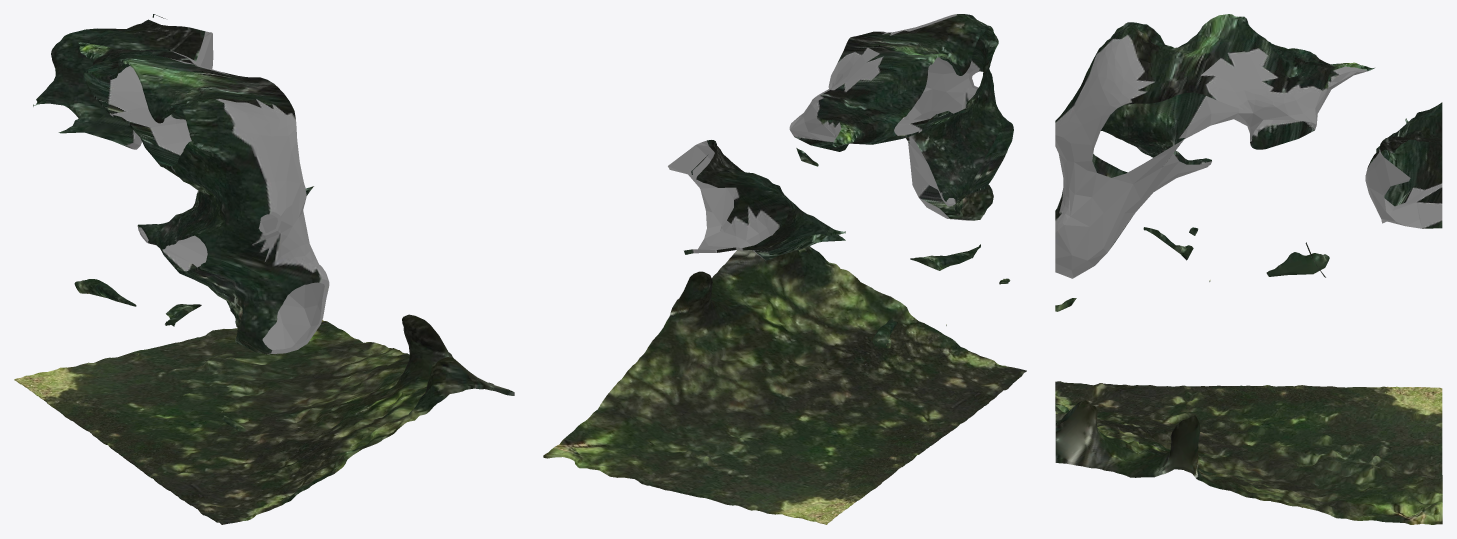
3 views of the same model, side by side, from view 1: azimuth 30°, elevation 25°; view 2: azimuth 150°, elevation 25°; view 3: azimuth 270°, elevation 25° (orthographic). The views are drawn at different scales.
Visible parts, largest first — view 1: node_144; view 2: node_144; view 3: node_144.
Boxes of the visible parts, <box> form: node_144: <box>14,14,514,524</box>; node_144: <box>543,14,1026,524</box>; node_144: <box>1055,14,1442,524</box>.
Bounding box in the file's own units: 8.98 × 11.9 × 11.
1 material, 1 textured.
